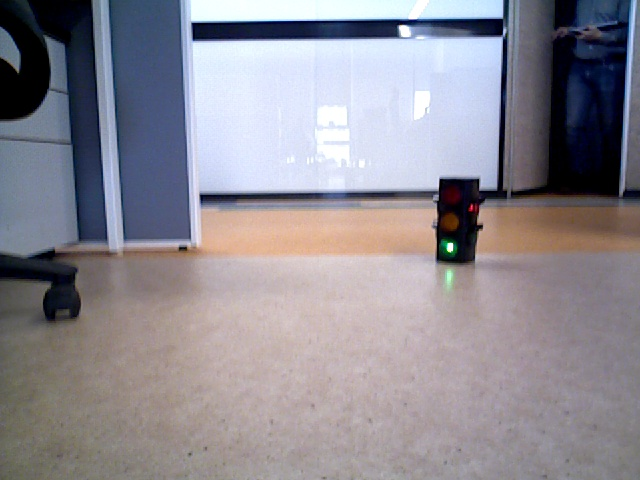green: (438, 181, 471, 256)
